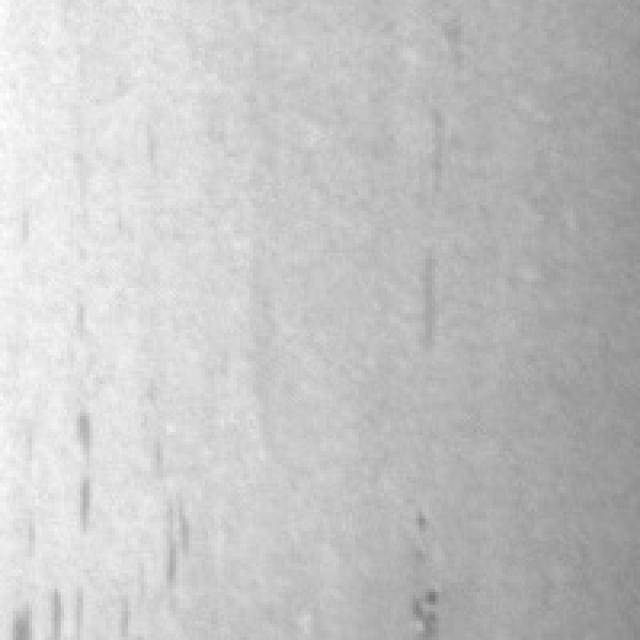inclusion: (54, 394, 112, 540), (400, 240, 445, 365)
